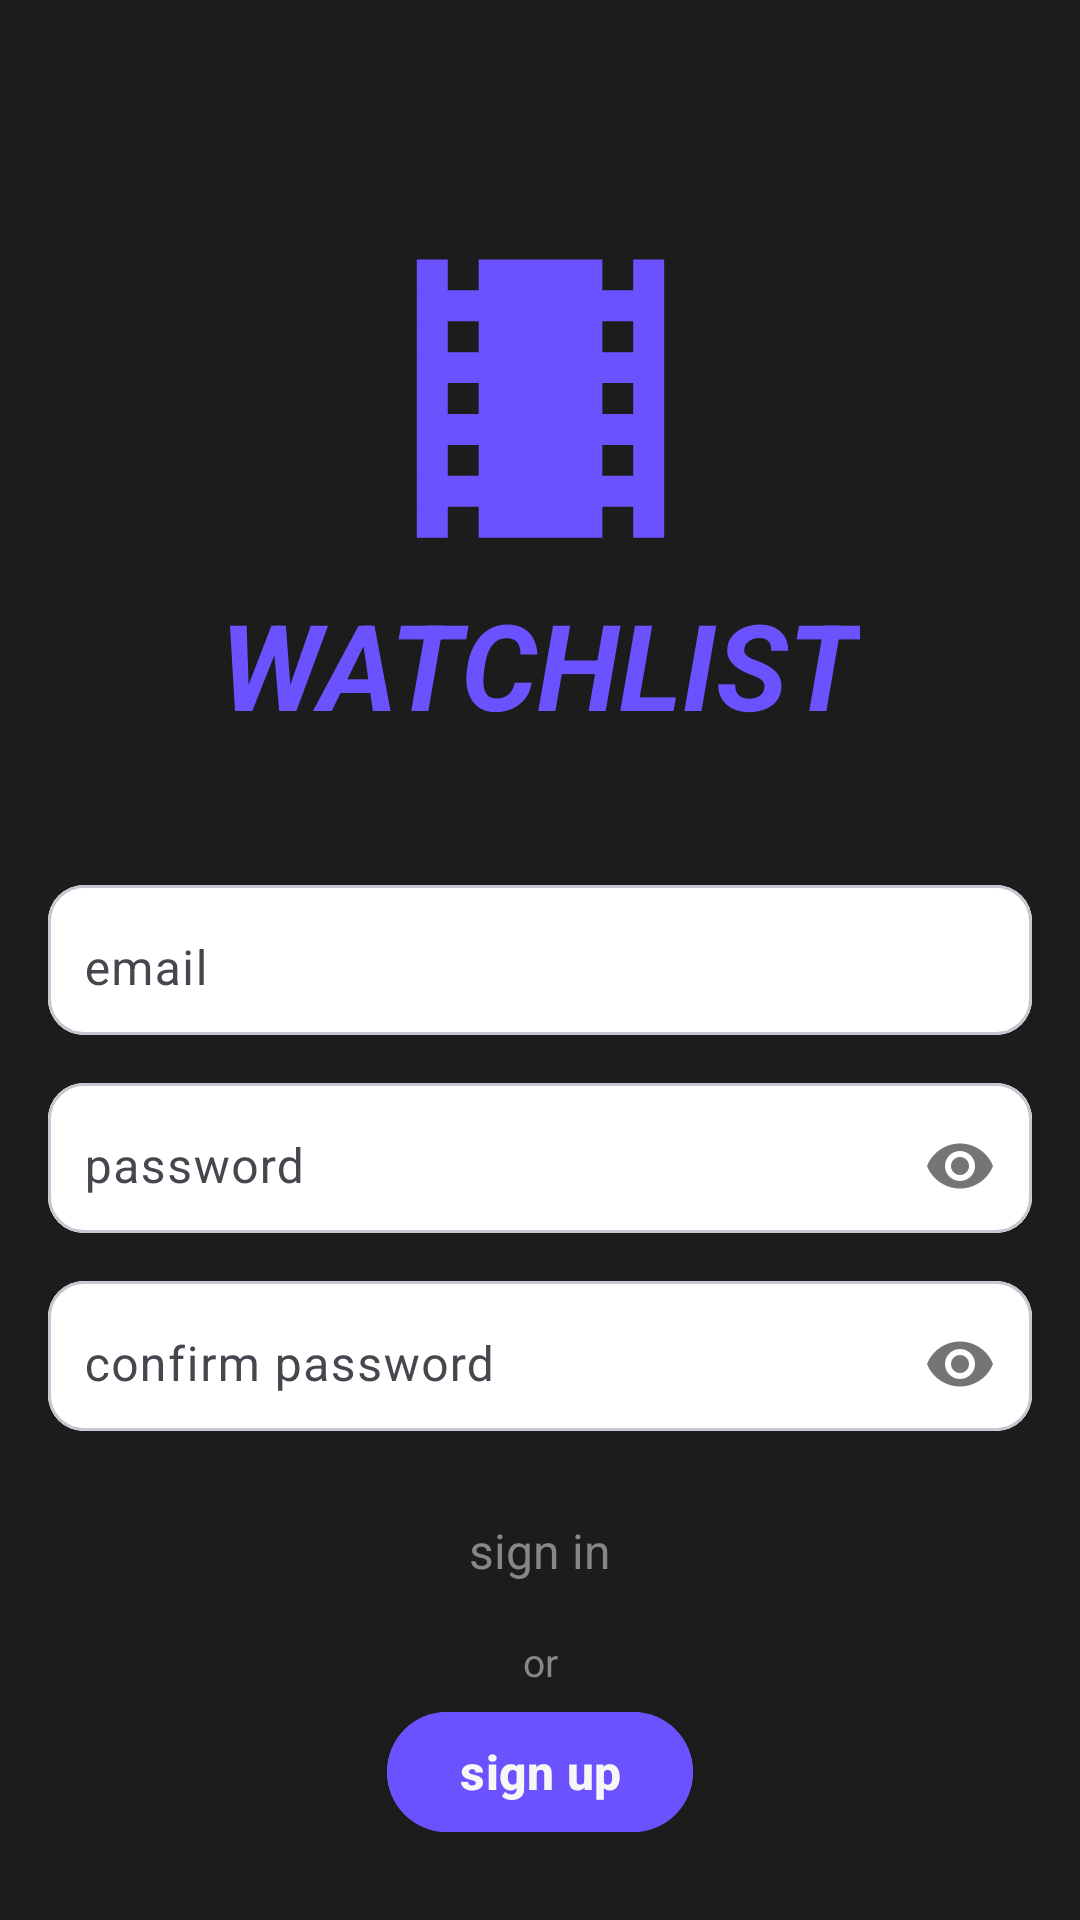

Icon click points for this 1080px×1920px phone screenshot, format (x=x, y=y):
movie icon: (x=540, y=398)
